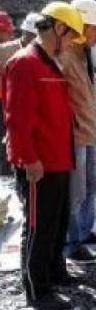boots: (28, 291, 72, 310), (1, 1, 1, 1)
hard-hat: (41, 1, 85, 37)
vest: (0, 39, 82, 175)
